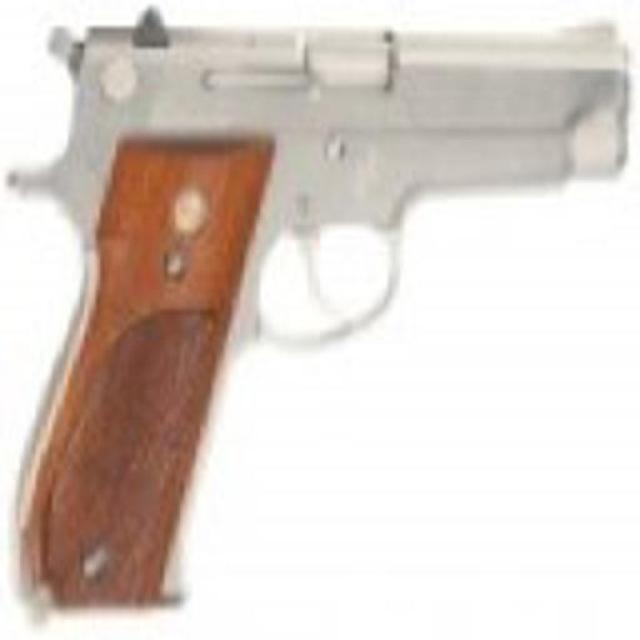pistol: (11, 5, 631, 602)
